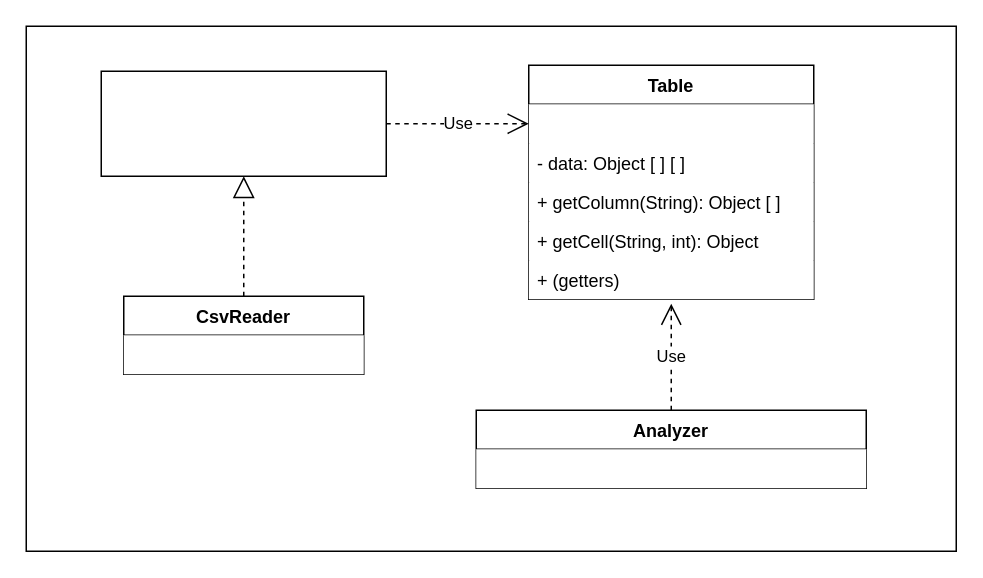
Image size: 983x578. Some labels were removed from this diagram. The shapes that lost their labels are listed below. From the top down, each one's box as (x1, y1, x2, y2) in pixels, then its label:
(100, 70, 386, 176): <<Interface>> Reader + readData(String): Table
(528, 104, 813, 142): - columnNames: String [ ]
(123, 334, 363, 374): + readData(String): Table
(476, 448, 866, 488): + getMinimumSpread(Table, String, String): int
